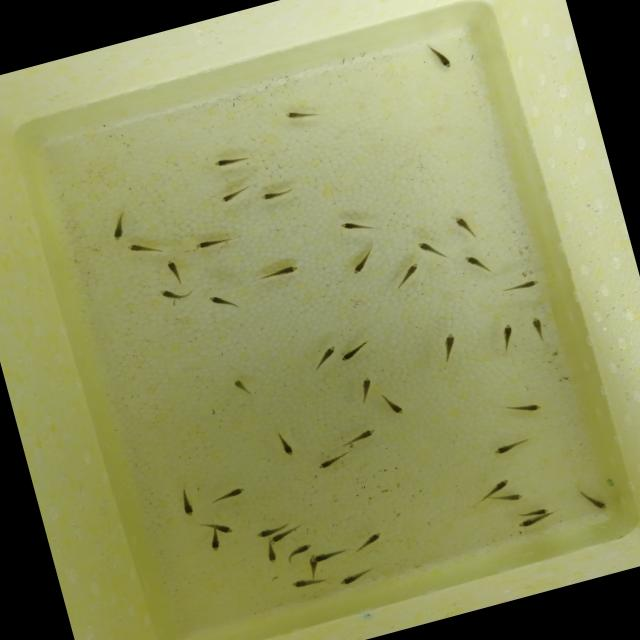fingerling: (425, 38, 463, 78), (276, 98, 326, 127), (332, 336, 376, 366), (212, 180, 258, 207), (306, 339, 342, 372), (431, 328, 464, 364), (256, 259, 304, 283), (388, 256, 430, 282), (462, 248, 495, 280), (308, 450, 352, 474), (341, 252, 380, 278), (252, 182, 298, 204), (210, 148, 252, 172), (211, 482, 251, 507), (342, 424, 384, 447), (475, 476, 515, 500), (507, 396, 550, 418), (332, 215, 373, 238), (124, 235, 160, 260), (350, 529, 388, 552), (451, 210, 477, 243), (492, 318, 518, 351), (274, 430, 300, 462), (204, 514, 238, 538), (193, 232, 231, 252), (207, 288, 238, 312), (580, 490, 610, 514), (502, 276, 541, 294), (491, 436, 526, 456), (230, 373, 254, 402), (287, 573, 320, 594), (202, 528, 228, 554), (337, 568, 374, 586), (177, 491, 199, 520), (108, 214, 129, 244), (515, 504, 550, 522), (515, 511, 548, 530), (414, 236, 438, 262), (158, 284, 186, 306), (385, 392, 406, 421), (253, 523, 287, 540), (313, 546, 349, 562), (530, 312, 548, 342), (268, 526, 298, 544), (162, 256, 184, 280), (494, 488, 527, 504), (356, 373, 376, 399), (287, 541, 311, 558), (262, 542, 278, 563), (308, 555, 318, 576)
